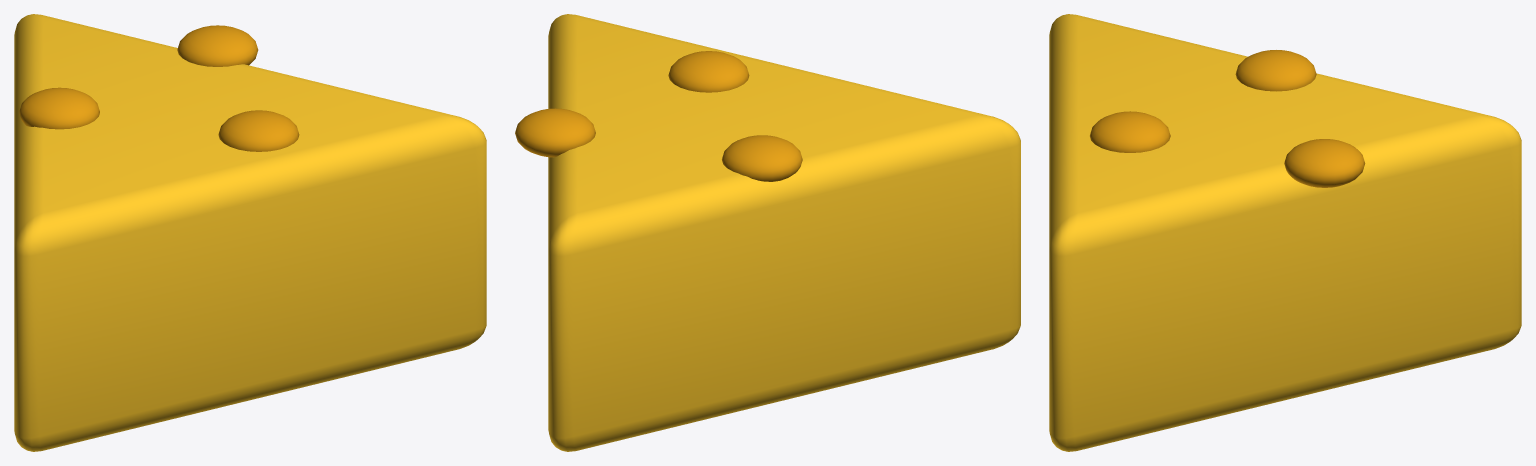
Rendered from Cheese.glb.
3 renders of one model, left to right at view 1: azimuth 30°, elevation 25°; view 2: azimuth 150°, elevation 25°; view 3: azimuth 270°, elevation 25°, orthographic.
Parts seen in each view (by area): view 1: Cylinder, Sphere.002, Sphere.001, Sphere; view 2: Cylinder, Sphere.002, Sphere.001, Sphere; view 3: Cylinder, Sphere.002, Sphere, Sphere.001.
Part boxes in pixels (<box>): Cylinder: <box>14,14,486,451</box>; Sphere.002: <box>177,25,258,66</box>; Sphere.001: <box>19,87,99,129</box>; Sphere: <box>218,110,299,151</box>; Cylinder: <box>548,14,1020,451</box>; Sphere.002: <box>515,108,595,157</box>; Sphere.001: <box>722,135,802,181</box>; Sphere: <box>668,51,749,92</box>; Cylinder: <box>1049,14,1521,451</box>; Sphere.002: <box>1284,139,1365,187</box>; Sphere: <box>1090,111,1170,152</box>; Sphere.001: <box>1235,50,1316,91</box>.
Size of the model in its own units: 0.3338 by 0.172 by 0.2916.
